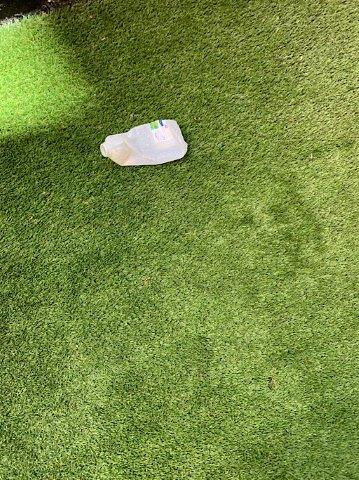botolplastik: (101, 120, 187, 165)
